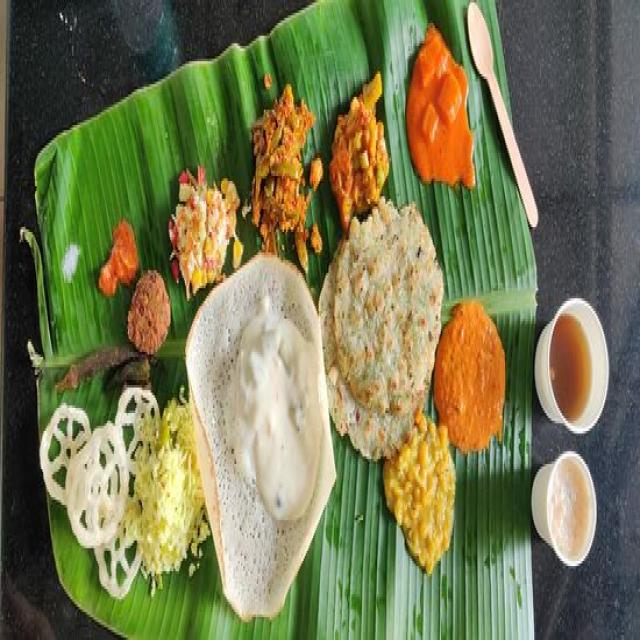veg meals: (33, 12, 534, 632)
